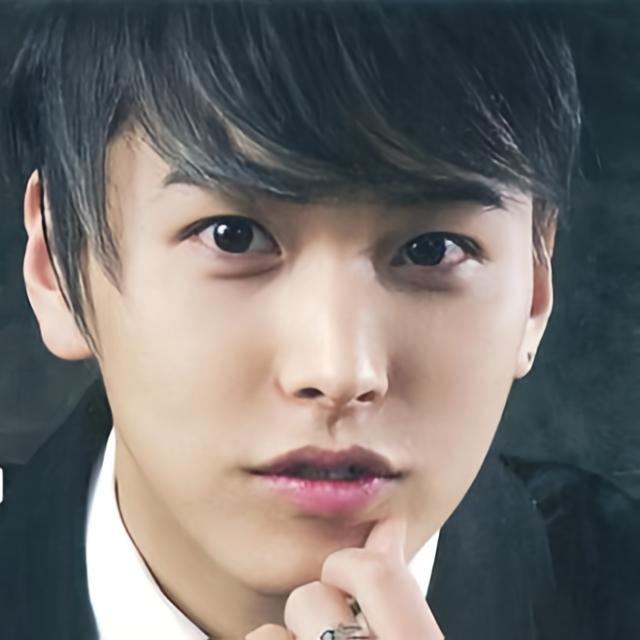neutral: (97, 11, 536, 598)
